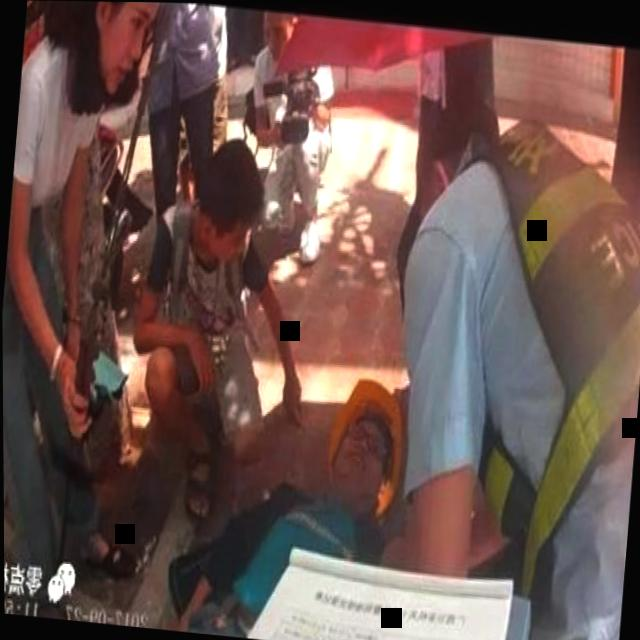Fall-Detected: (153, 345, 423, 640)
